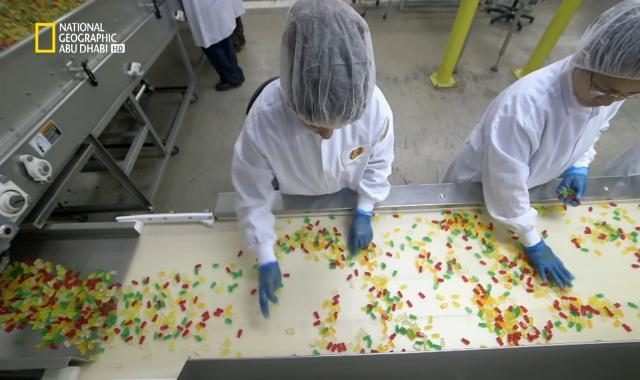hairnet: (282, 1, 378, 140), (570, 2, 640, 81)
